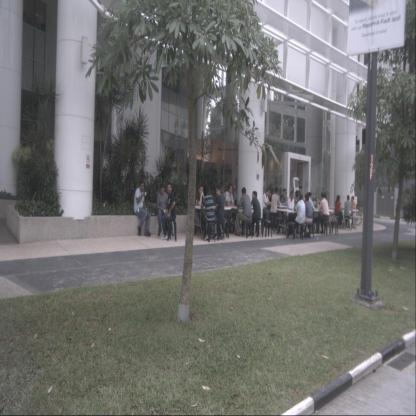human-pedestrian-adult: (134, 179, 151, 237), (160, 183, 176, 240), (200, 185, 216, 241), (156, 184, 171, 237), (236, 187, 252, 236), (193, 185, 207, 236), (291, 193, 306, 237), (213, 185, 225, 240), (223, 184, 236, 234), (299, 194, 313, 237), (249, 191, 262, 236), (316, 192, 330, 233), (270, 187, 282, 233), (304, 192, 316, 233), (262, 187, 274, 228), (279, 190, 289, 230), (287, 191, 296, 231), (344, 195, 354, 229), (334, 195, 343, 226), (348, 196, 356, 229)
vehicle-bicycle: (344, 203, 362, 225)
